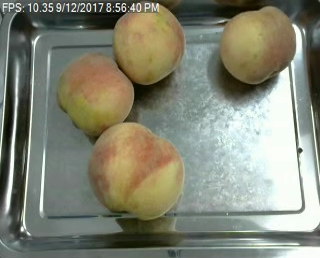Peach: (88, 122, 183, 219), (55, 50, 134, 135), (220, 6, 297, 84), (111, 1, 182, 85)
